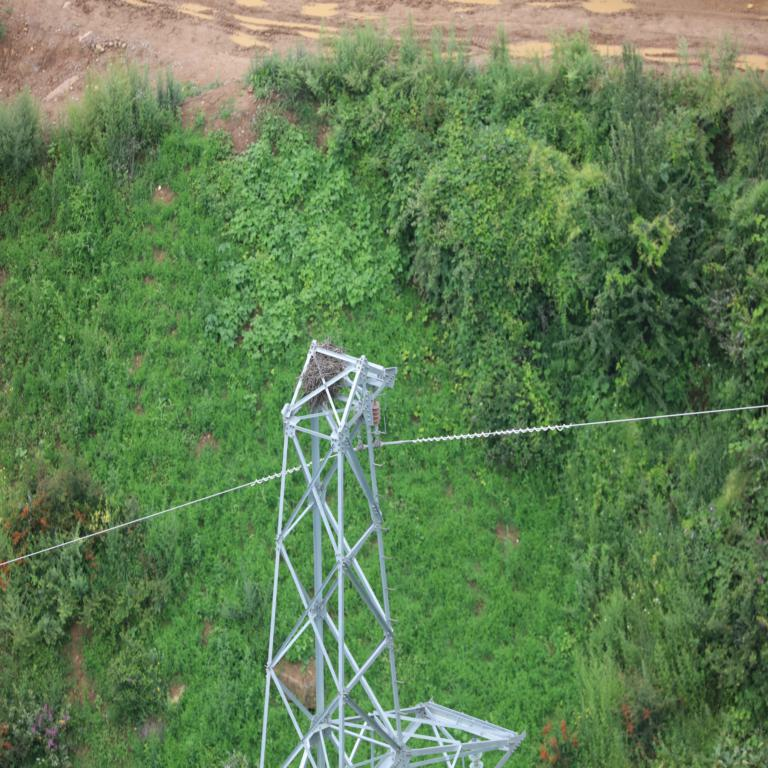nest: (302, 349, 342, 400)
